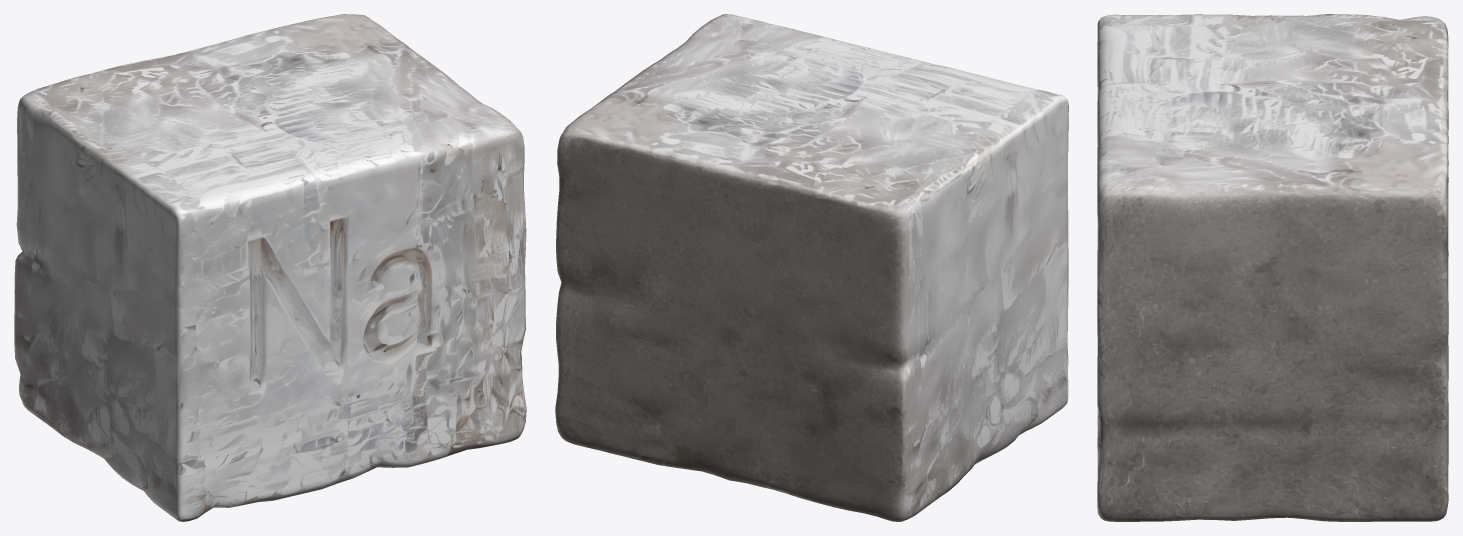
The model's file is sodium.glb.
3 views of the same model, side by side, from view 1: azimuth 30°, elevation 25°; view 2: azimuth 150°, elevation 25°; view 3: azimuth 270°, elevation 25° (orthographic). The views are drawn at different scales.
Visible parts, largest first — view 1: model; view 2: model; view 3: model.
Part boxes in pixels (x1,y1,x2,y2): model: [14, 14, 526, 521]; model: [555, 14, 1068, 521]; model: [1097, 14, 1448, 521].
Bounding box in the file's own units: 1.76 × 1.53 × 1.44.
1 material, 1 textured.
